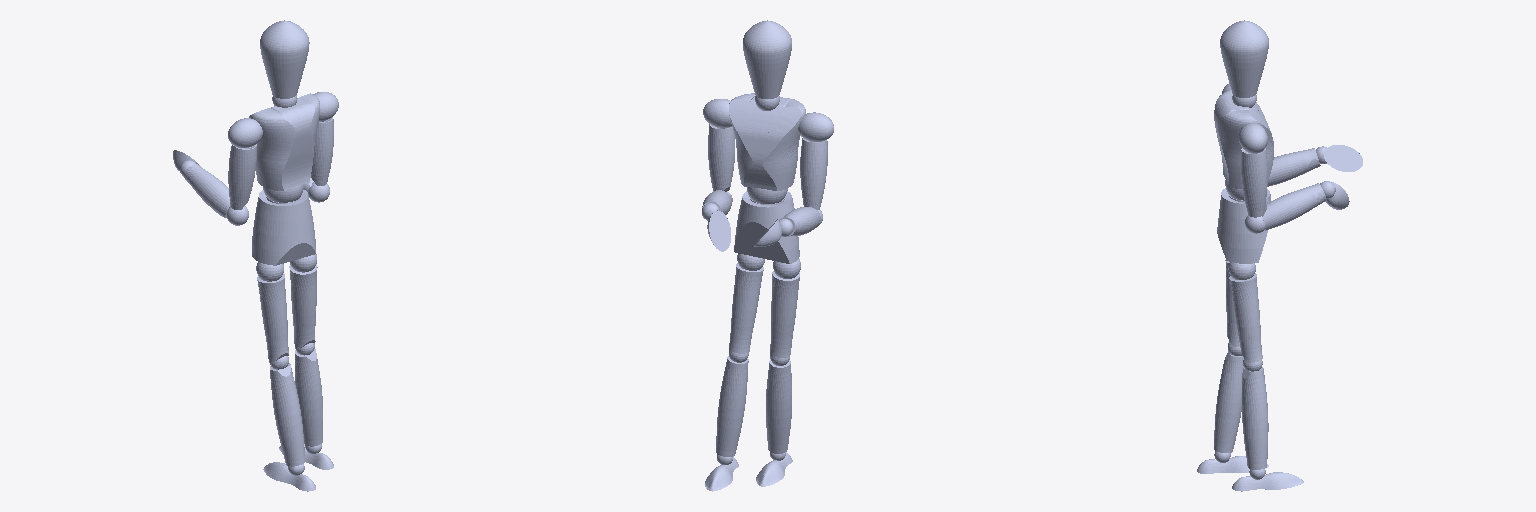
robot.urdf — mannequin_urdf:
<?xml version="1.0" encoding="utf-8"?>
<!-- This URDF was automatically created by SolidWorks to URDF Exporter! Originally created by [author] ([email redacted]) 
     Commit Version: 1.6.0-4-g7f85cfe  Build Version: 1.6.7995.38578
     For more information, please see http://wiki.ros.org/sw_urdf_exporter -->
<robot
  name="mannequin_urdf">
  <link
    name="mannequin">
    <inertial>
      <origin
        xyz="0.0030821 0.0049981 0.23019"
        rpy="0 0 0" />
      <mass
        value="46.356" />
      <inertia
        ixx="0.36143"
        ixy="-0.0011697"
        ixz="0.0080672"
        iyy="0.38528"
        iyz="0.0010071"
        izz="0.19025" />
    </inertial>
    <visual>
      <origin
        xyz="0 0 0"
        rpy="0 0 0" />
      <geometry>
        <mesh
          filename="package://mannequin_urdf/meshes/mannequin.STL" />
      </geometry>
      <material
        name="">
        <color
          rgba="0.79216 0.81961 0.93333 1" />
      </material>
    </visual>
    <collision>
      <origin
        xyz="0 0 0"
        rpy="0 0 0" />
      <geometry>
        <mesh
          filename="package://mannequin_urdf/meshes/mannequin.STL" />
      </geometry>
    </collision>
  </link>
</robot>

--- Facts derived from the render (not from the file) ---
The picture shows the robot from 3 angles, left to right: view 1: azimuth 30°, elevation 25°; view 2: azimuth 150°, elevation 25°; view 3: azimuth 270°, elevation 25°; orthographic projection.
Model mannequin_urdf with 1 links and 0 joints (none), rooted at mannequin, posed every joint at zero.
Visible links, largest first — view 1: mannequin; view 2: mannequin; view 3: mannequin.
Link boxes in pixels (x1,y1,x2,y2): mannequin: (173,20,338,491); mannequin: (702,20,833,491); mannequin: (1197,20,1362,491).
Size in the robot's own frame: 0.5256 by 0.6308 by 1.87 metres.
1 mesh visuals loaded from 1 distinct referenced files (1 binary STL).